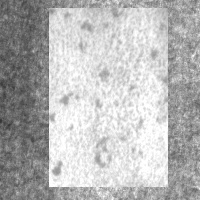crazing: (22, 116, 108, 170)
pitted_surface: (49, 8, 168, 187)
